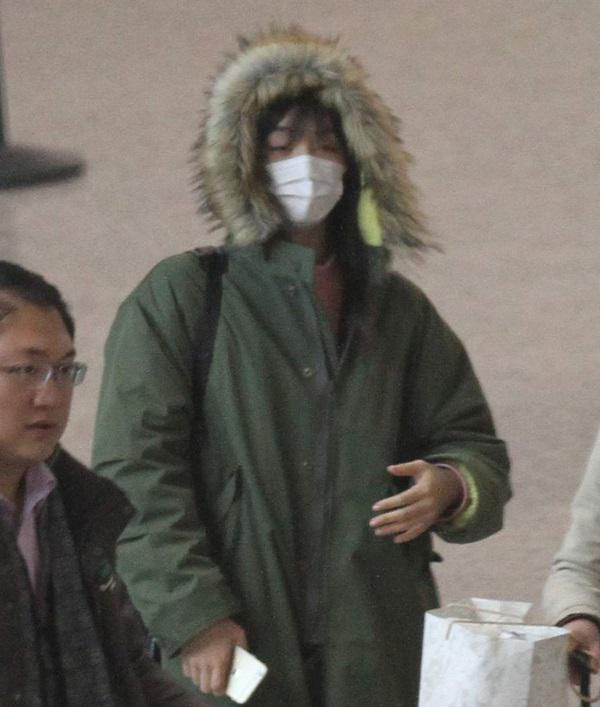NONE: (1, 319, 80, 458)
OK: (249, 118, 356, 225)
